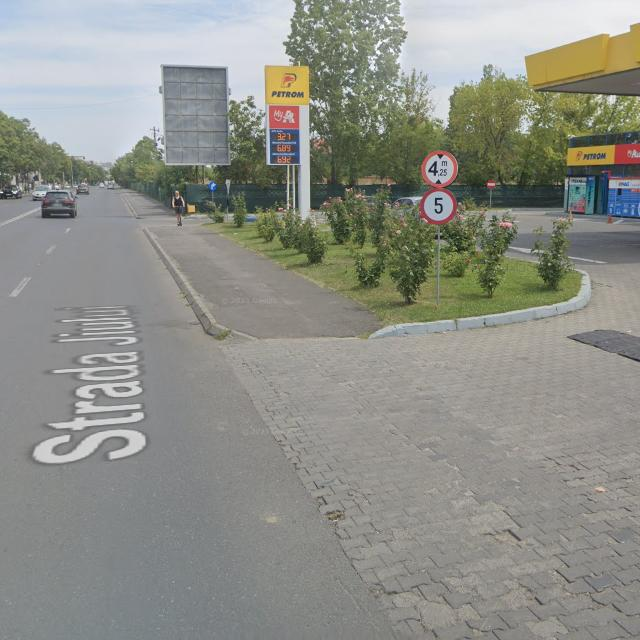forb_speed_over_5: (420, 188, 458, 225)
